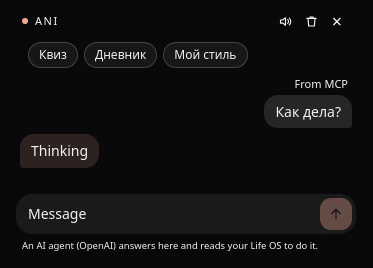
AniChat › marks MCP turns, takes a message beside one, and does not speak its reply
The width and height of the screenshot is (373, 268).
expect the text "From MCP" is shown: met, box x1=295 y1=76 x2=348 y2=92
Type "Привет" into the text box named "Message to Ani". click: (167,214)
box: x1=20 y1=198 x2=314 y2=230
Wait 1000 ms
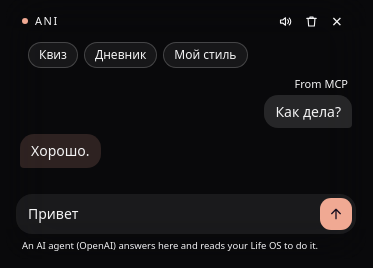
expect the button named "send" is enabled: met, box x1=320 y1=198 x2=352 y2=230
expect the text "Хорошо." is shown: met, box x1=20 y1=134 x2=101 y2=168
